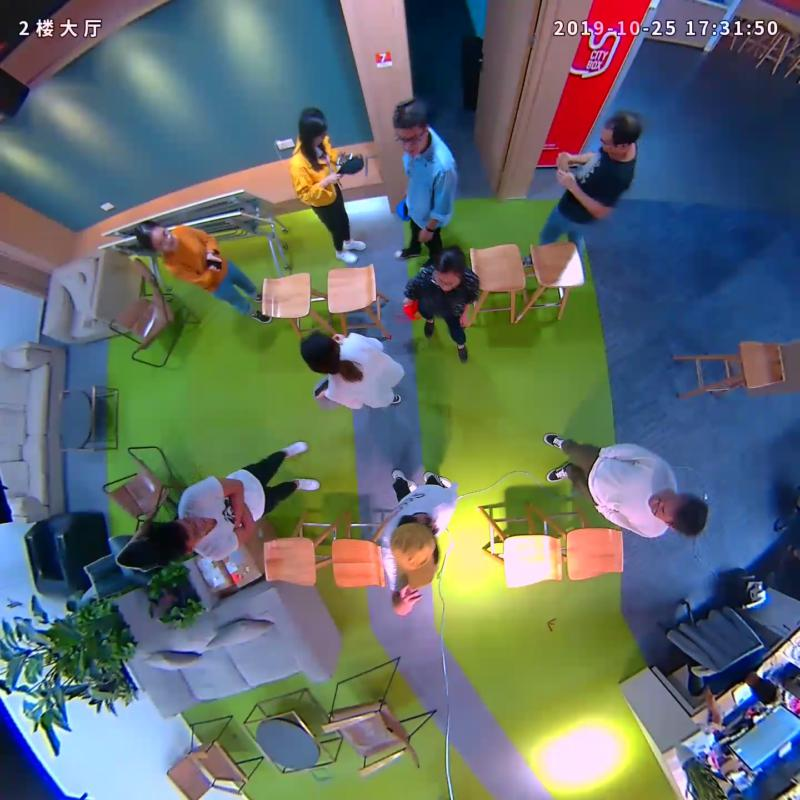head: (390, 520, 440, 589), (649, 491, 710, 536), (151, 516, 208, 563), (391, 99, 431, 158), (299, 330, 341, 376), (600, 111, 643, 155), (434, 246, 466, 293), (135, 221, 178, 252), (298, 108, 327, 148)
